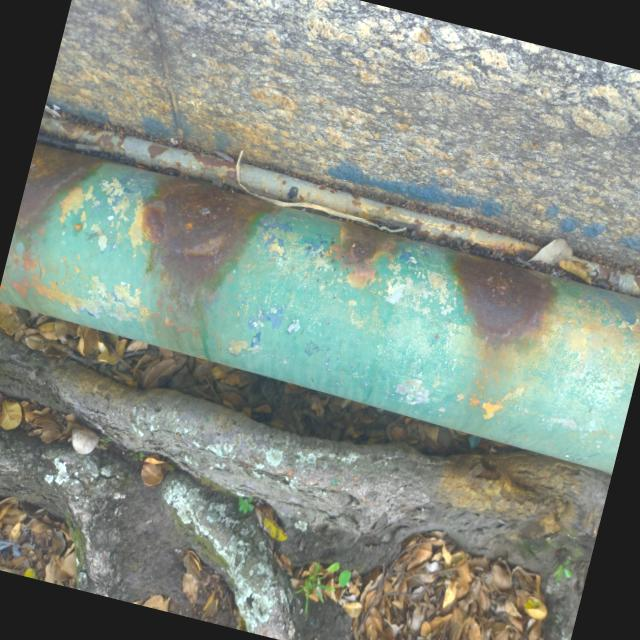gas: (0, 140, 640, 469)
